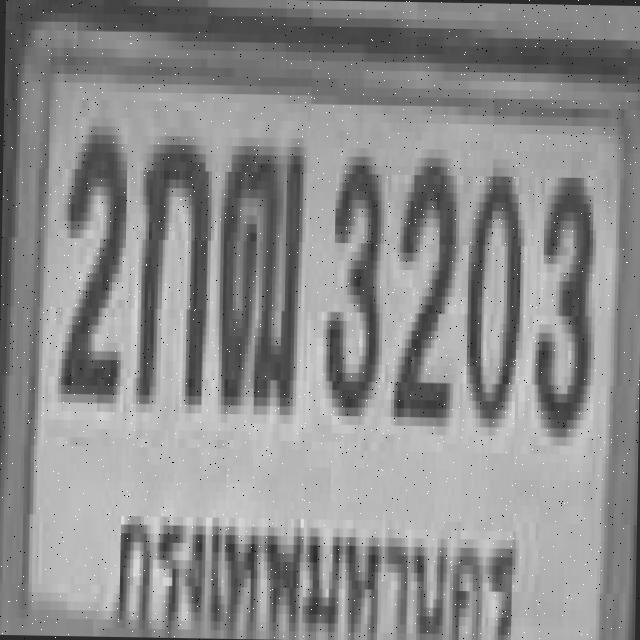0: (462, 158, 519, 418)
10GorGai: (133, 127, 210, 396)
2: (58, 116, 124, 394), (389, 148, 454, 418)
27ThorPhuThao: (214, 137, 304, 406)
3: (530, 168, 590, 428), (322, 148, 378, 408)
Bangkok: (97, 471, 546, 640)
